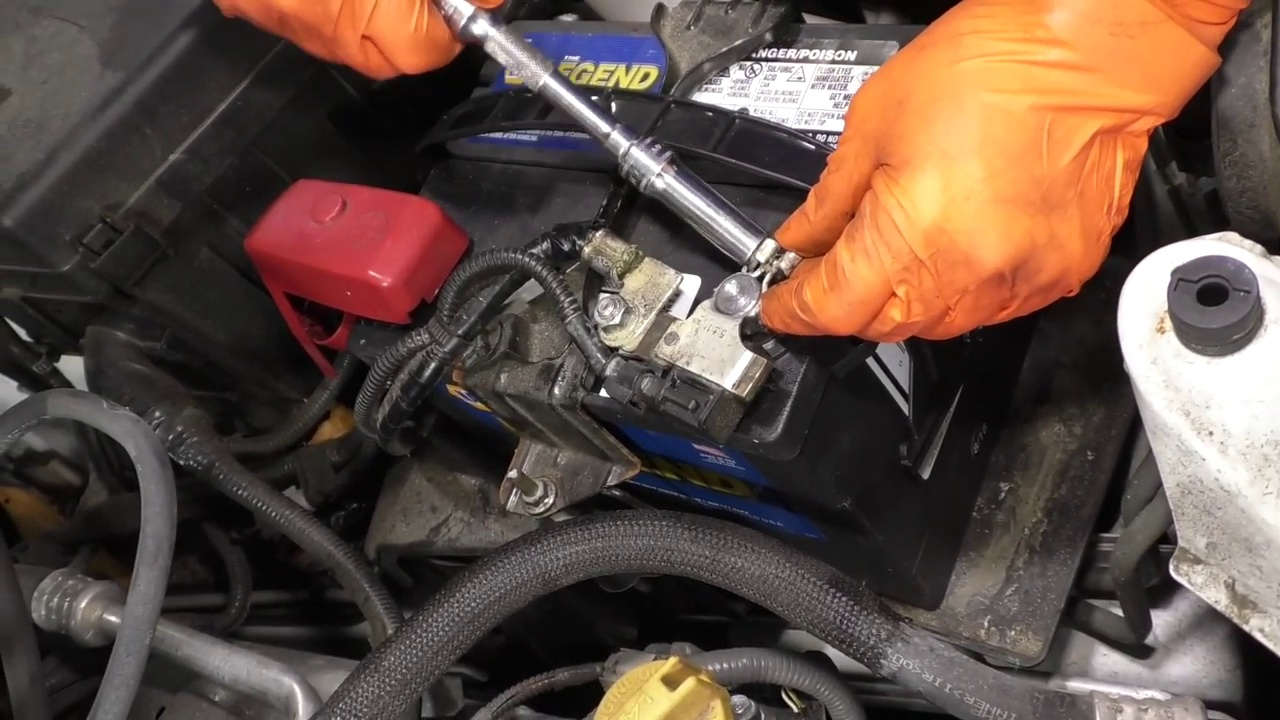battery: (346, 16, 958, 451)
neg_connected: (654, 239, 778, 404)
neg_touched: (634, 148, 873, 435)
pos_connected: (223, 172, 472, 396)
